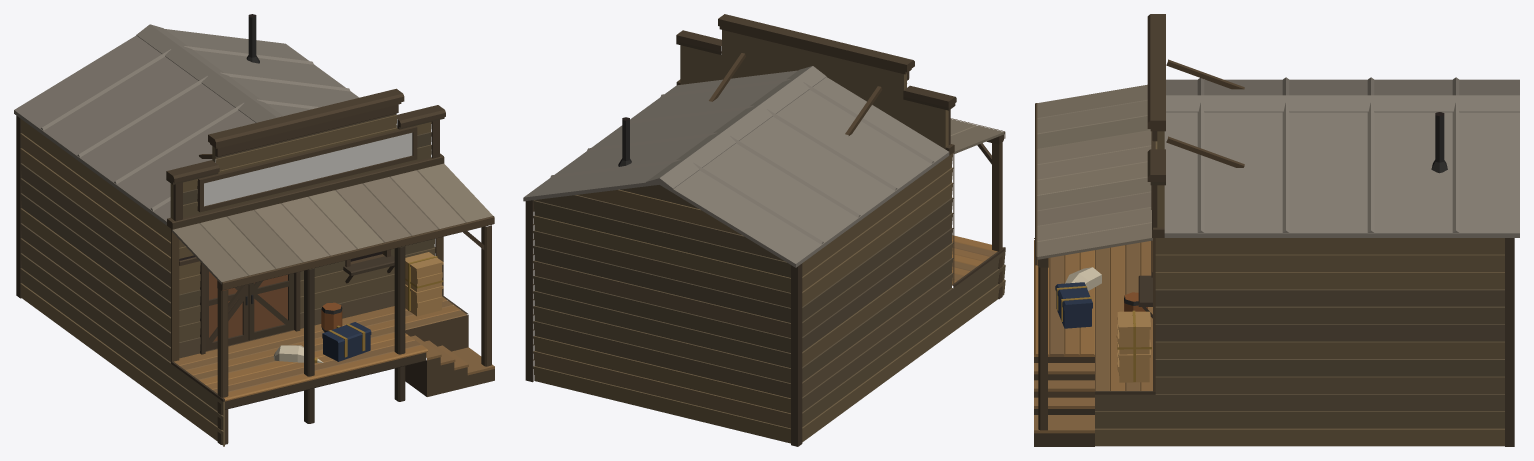
The model's file is stage-and-freight-office-c5a38a.glb.
The picture shows the model from 3 angles, left to right: view 1: azimuth 30°, elevation 25°; view 2: azimuth 150°, elevation 25°; view 3: azimuth 270°, elevation 25°; orthographic projection. The views are drawn at different scales.
Visible parts, largest first — view 1: office-mesh, door-r-mesh, crates-mesh, door-l-mesh, trunks-mesh, keg-mesh, mail-sack-mesh; view 2: office-mesh; view 3: office-mesh, crates-mesh, trunks-mesh, mail-sack-mesh.
Boxes of the visible parts, box(x1,y1,x2,y2) form: office-mesh: box(14, 14, 494, 446); door-r-mesh: box(248, 273, 293, 340); crates-mesh: box(405, 252, 443, 316); door-l-mesh: box(205, 268, 248, 350); trunks-mesh: box(322, 322, 371, 361); keg-mesh: box(321, 302, 342, 332); mail-sack-mesh: box(273, 345, 323, 362); office-mesh: box(523, 14, 1005, 446); office-mesh: box(1034, 14, 1519, 446); crates-mesh: box(1116, 310, 1151, 382); trunks-mesh: box(1055, 282, 1092, 328); mail-sack-mesh: box(1065, 267, 1101, 290).
Size of the model in its own units: 6 by 5.5 by 8.
